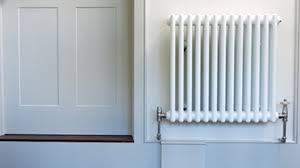Radiator: (155, 12, 291, 126)
